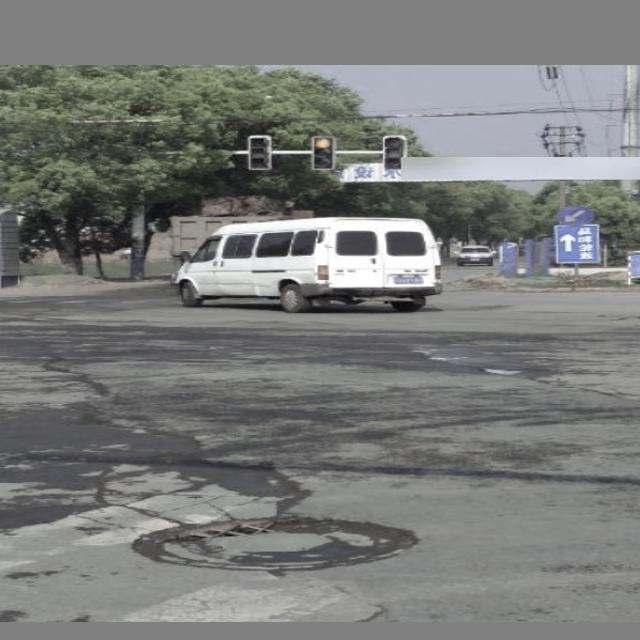broke: (131, 513, 420, 572)
